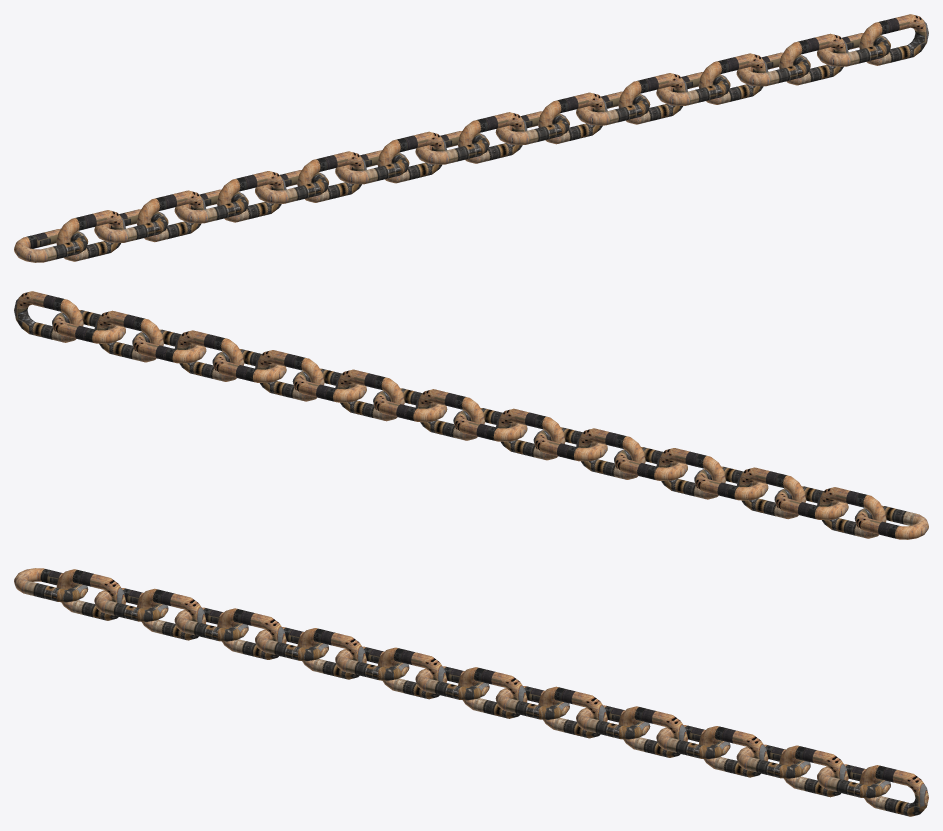
File: Big Chain.fbx
3 renders of one model, top to bottom at view 1: azimuth 30°, elevation 25°; view 2: azimuth 150°, elevation 25°; view 3: azimuth 330°, elevation 25°, orthographic.
Parts seen in each view (by area): view 1: Chain; view 2: Chain; view 3: Chain.
Part boxes in pixels (box(x1,y1,x2,y2)): Chain: box(14, 14, 928, 262); Chain: box(14, 291, 928, 539); Chain: box(14, 568, 928, 816).
Bounding box in the file's own units: 101 × 4.45 × 4.45.
Materials: 1 (1 with a texture image).
